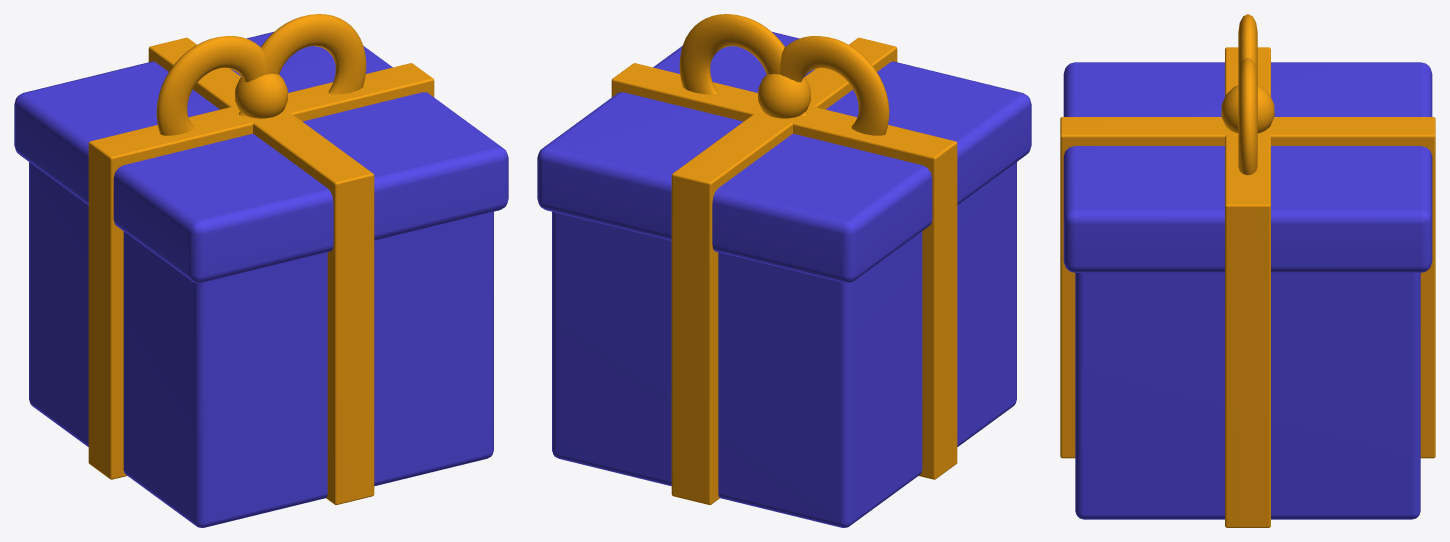
Rendered from hero-gift-box.glb.
3 renders of one model, left to right at view 1: azimuth 30°, elevation 25°; view 2: azimuth 150°, elevation 25°; view 3: azimuth 270°, elevation 25°, orthographic.
Visible parts, largest first — view 1: Box, Lid, Ribbon, Ribbon.001, Bow loop, Bow loop.001, Knot; view 2: Box, Lid, Ribbon, Ribbon.001, Bow loop, Bow loop.001, Knot; view 3: Box, Lid, Ribbon.001, Ribbon, Bow loop.001, Knot, Bow loop.
Boxes of the visible parts, x1,y1,x2,y2 form: Box: [29, 162, 493, 527]; Lid: [14, 32, 508, 282]; Ribbon: [148, 37, 374, 504]; Ribbon.001: [88, 63, 434, 479]; Bow loop: [156, 36, 265, 135]; Bow loop.001: [261, 14, 366, 94]; Knot: [235, 74, 287, 118]; Box: [552, 162, 1016, 527]; Lid: [537, 32, 1031, 282]; Ribbon: [671, 37, 897, 504]; Ribbon.001: [611, 63, 957, 479]; Bow loop: [780, 36, 889, 135]; Bow loop.001: [679, 14, 784, 94]; Knot: [758, 74, 810, 118]; Box: [1075, 273, 1420, 519]; Lid: [1063, 62, 1432, 272]; Ribbon.001: [1225, 47, 1270, 527]; Ribbon: [1060, 117, 1435, 458]; Bow loop.001: [1238, 58, 1257, 175]; Knot: [1221, 85, 1274, 133]; Bow loop: [1238, 14, 1257, 74].
Size of the model in its own units: 0.652 by 0.7798 by 0.652.
